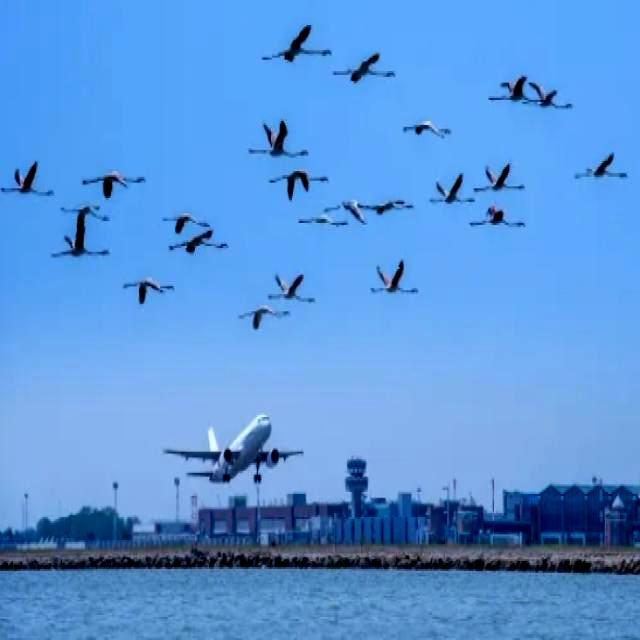bird: (257, 23, 335, 76), (249, 107, 320, 164), (46, 220, 116, 270), (332, 46, 400, 92), (367, 251, 422, 307), (262, 260, 318, 310), (266, 162, 328, 202), (573, 145, 629, 188), (87, 164, 153, 200), (0, 160, 55, 203), (476, 153, 530, 196), (121, 278, 181, 314), (166, 232, 236, 262), (479, 64, 528, 106), (470, 206, 534, 238), (394, 114, 462, 144), (525, 80, 576, 118), (161, 198, 212, 235), (238, 304, 293, 336), (366, 191, 418, 224), (430, 178, 478, 210), (288, 206, 346, 232), (338, 187, 369, 220)
